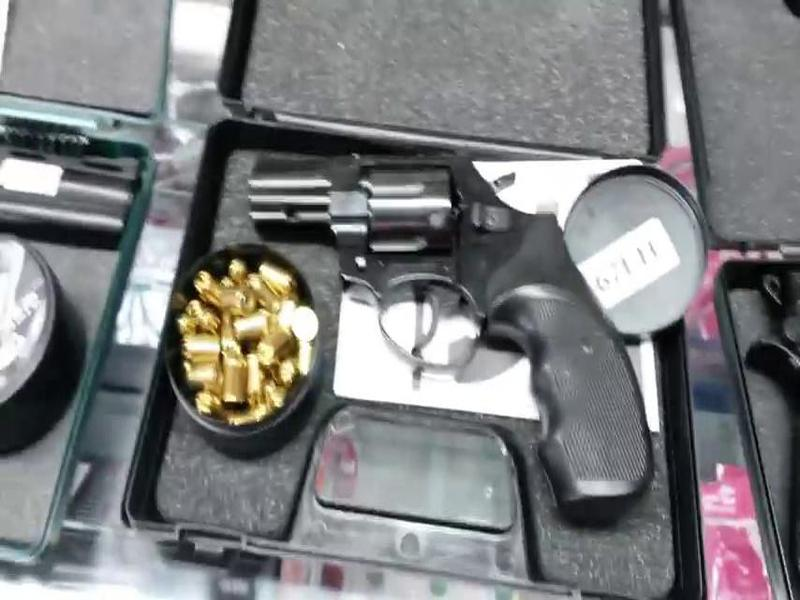Revolver: (229, 135, 656, 506)
